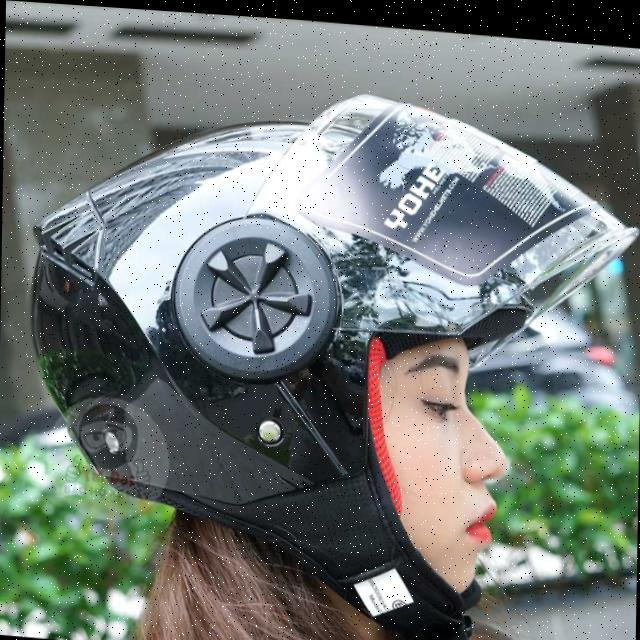helmet: (14, 55, 640, 640)
